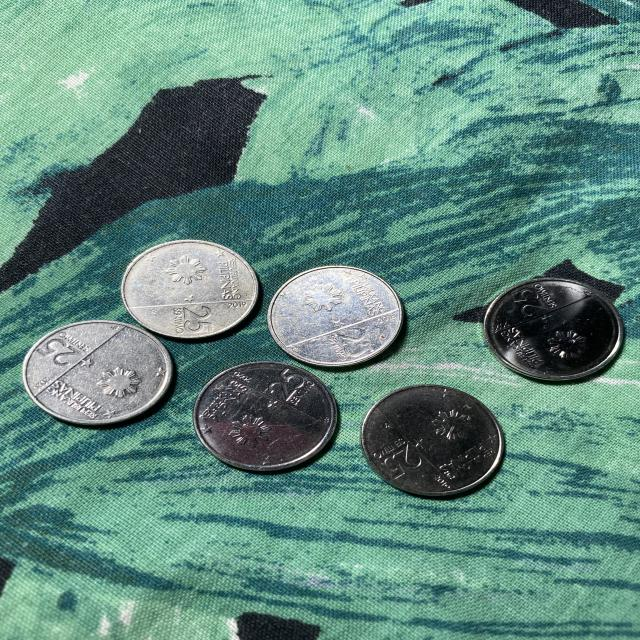25Cent_New_Front: (383, 445, 421, 480), (331, 326, 372, 357), (38, 337, 79, 366), (268, 369, 307, 399), (512, 290, 550, 320), (182, 305, 218, 333)
